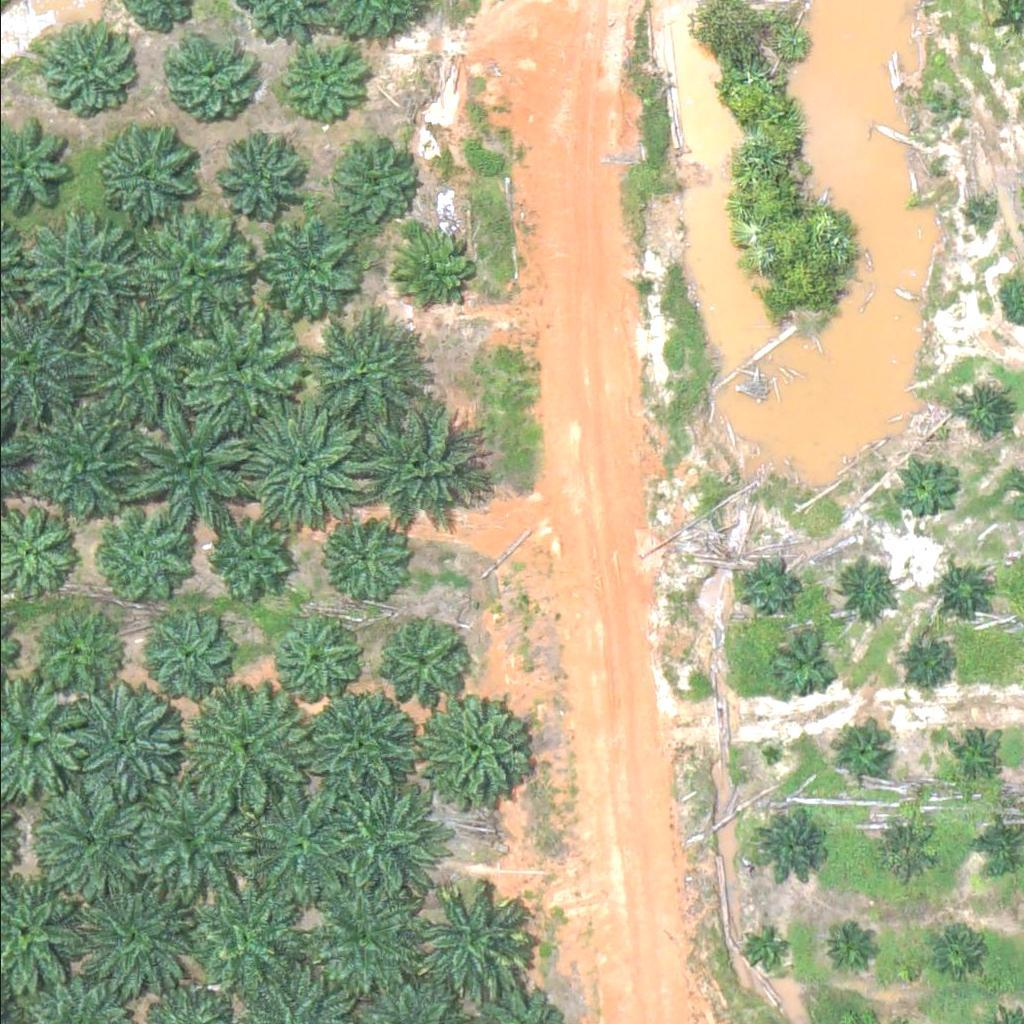Kelapa_Sawit: (410, 882, 536, 1007), (302, 874, 428, 999), (174, 879, 300, 1004), (62, 879, 188, 1004), (125, 780, 251, 905), (233, 785, 359, 910), (313, 779, 439, 904), (293, 683, 419, 808), (64, 682, 190, 807), (360, 405, 486, 530), (239, 400, 365, 525), (127, 401, 253, 526), (12, 405, 138, 530), (304, 314, 430, 439), (179, 309, 305, 434), (76, 302, 202, 427), (130, 211, 256, 336), (23, 777, 148, 902), (183, 694, 308, 819), (419, 688, 533, 801), (27, 213, 140, 325), (87, 506, 188, 606), (257, 221, 358, 321), (317, 508, 417, 608), (96, 122, 196, 222), (150, 613, 238, 701), (329, 143, 417, 231), (274, 36, 362, 124), (161, 33, 249, 121), (38, 25, 126, 113), (32, 613, 120, 700), (273, 620, 361, 707), (372, 619, 460, 706), (200, 513, 288, 600), (386, 223, 474, 310), (210, 137, 298, 224), (752, 807, 828, 882), (765, 621, 841, 696), (830, 554, 893, 617), (898, 453, 961, 516), (829, 721, 892, 784), (733, 553, 796, 616), (870, 820, 933, 882), (953, 376, 1016, 438), (929, 561, 991, 623), (901, 628, 963, 690), (931, 925, 982, 975), (821, 920, 871, 970), (951, 725, 1001, 775), (740, 926, 790, 976), (969, 201, 994, 226), (935, 106, 960, 131)
